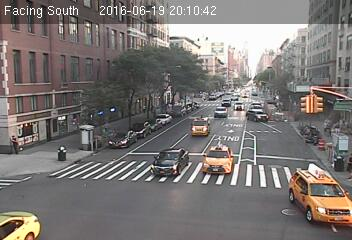neg: (232, 129, 256, 161), (119, 140, 139, 166), (172, 145, 190, 168)
pos: (3, 131, 21, 155)
